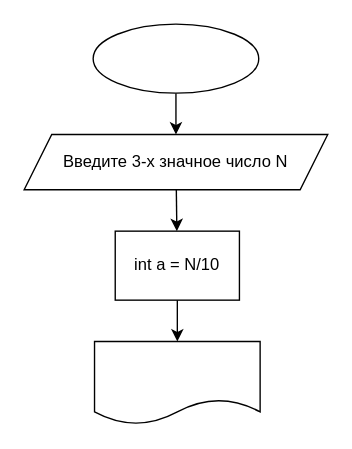
The diagram is 352 pixels wide and 449 high, and some of its shapes have lost their labels. Here are the shapes that lost their labels. From the top down, the centre of each, then its label:
At (175,58): "Начало".
At (176,382): "print a%10".
